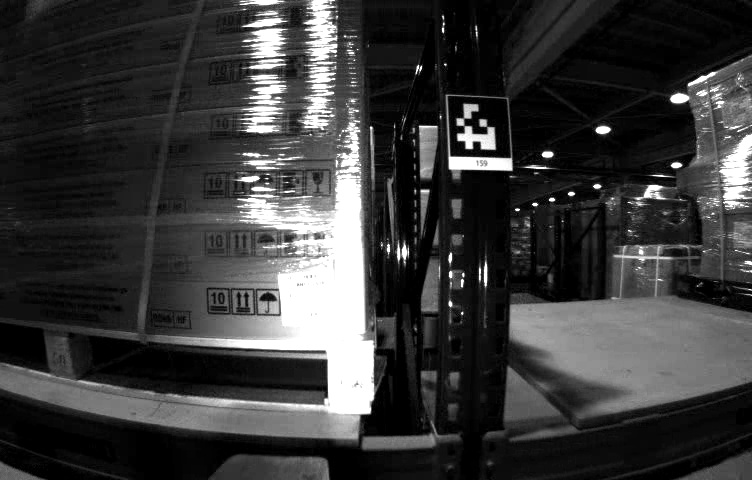True Barcode: (277, 277, 339, 330)
